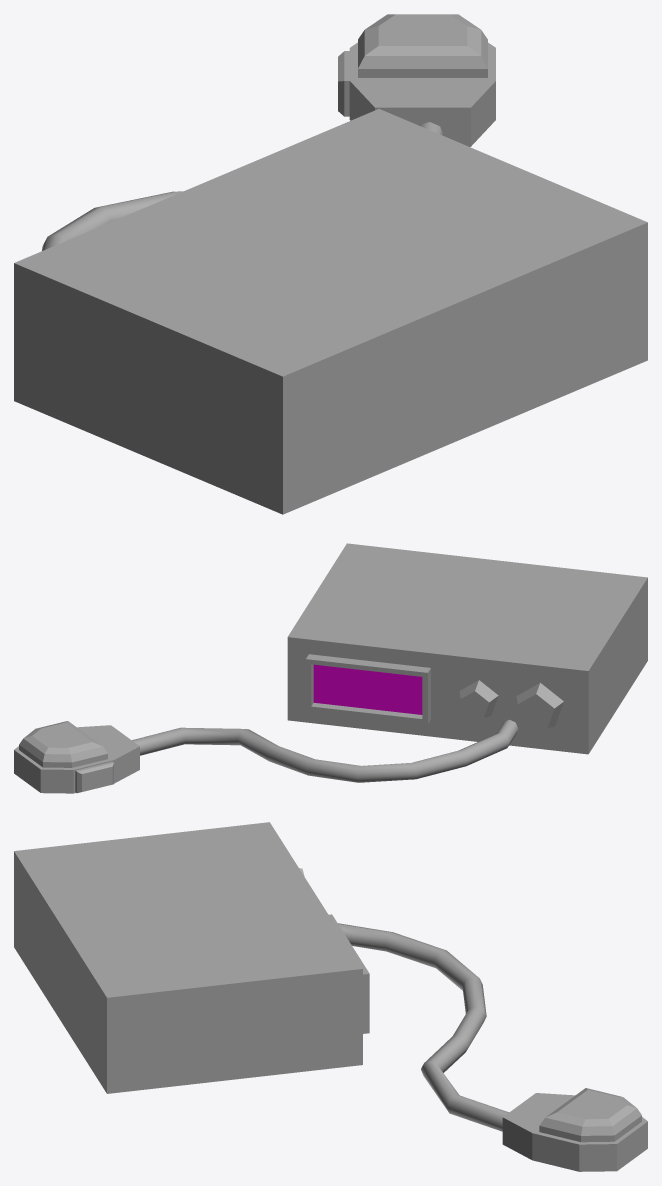
Rendered from radio.fbx.
The picture shows the model from 3 angles, top to bottom: view 1: azimuth 30°, elevation 25°; view 2: azimuth 150°, elevation 25°; view 3: azimuth 270°, elevation 25°; orthographic projection. The views are drawn at different scales.
Visible parts, largest first — view 1: Radio2; view 2: Radio2, frequence_radio, Bouton_2, Bouton_1; view 3: Radio2.
Boxes of the visible parts, x1=… form: Radio2: x1=14, y1=14, x2=647, y2=514; Radio2: x1=14, y1=543, x2=647, y2=793; frequence_radio: x1=313, y1=664, x2=422, y2=714; Bouton_2: x1=516, y1=682, x2=563, y2=727; Bouton_1: x1=459, y1=680, x2=498, y2=717; Radio2: x1=14, y1=822, x2=647, y2=1171.
Size of the model in its own units: 69.27 by 15.11 by 77.54.
